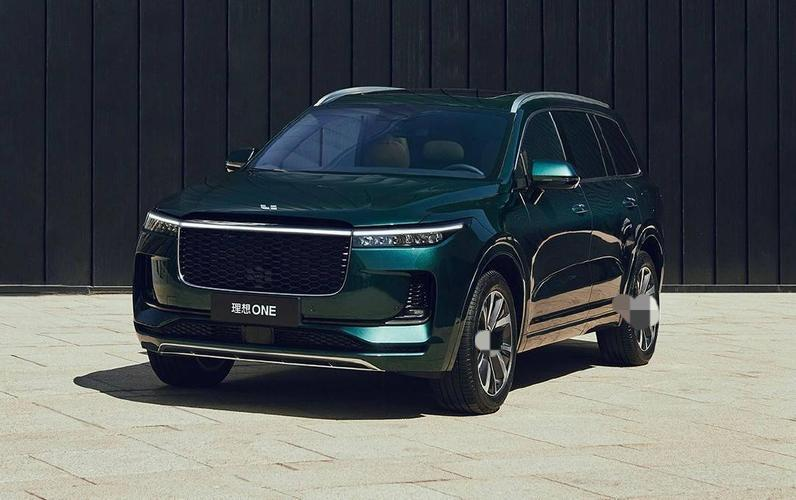Li Auto: (259, 205, 278, 211)
